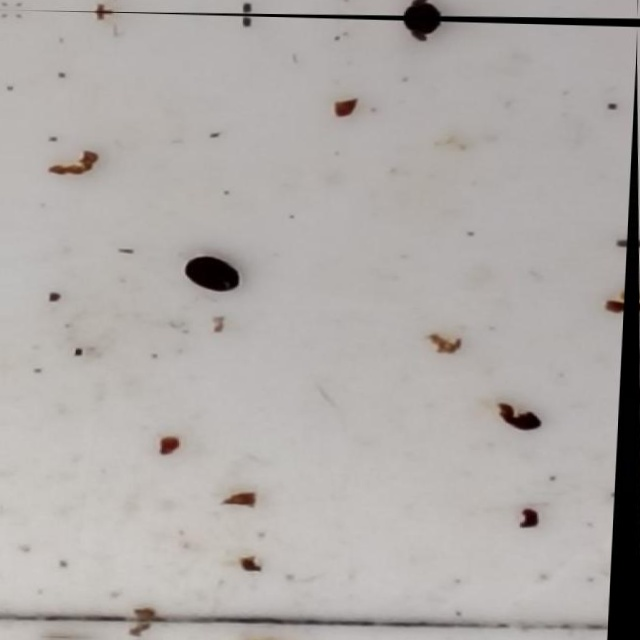varroa: (183, 253, 245, 295)
